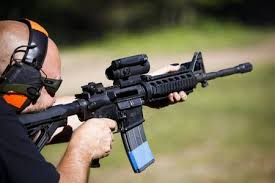gun: (11, 49, 253, 172)
